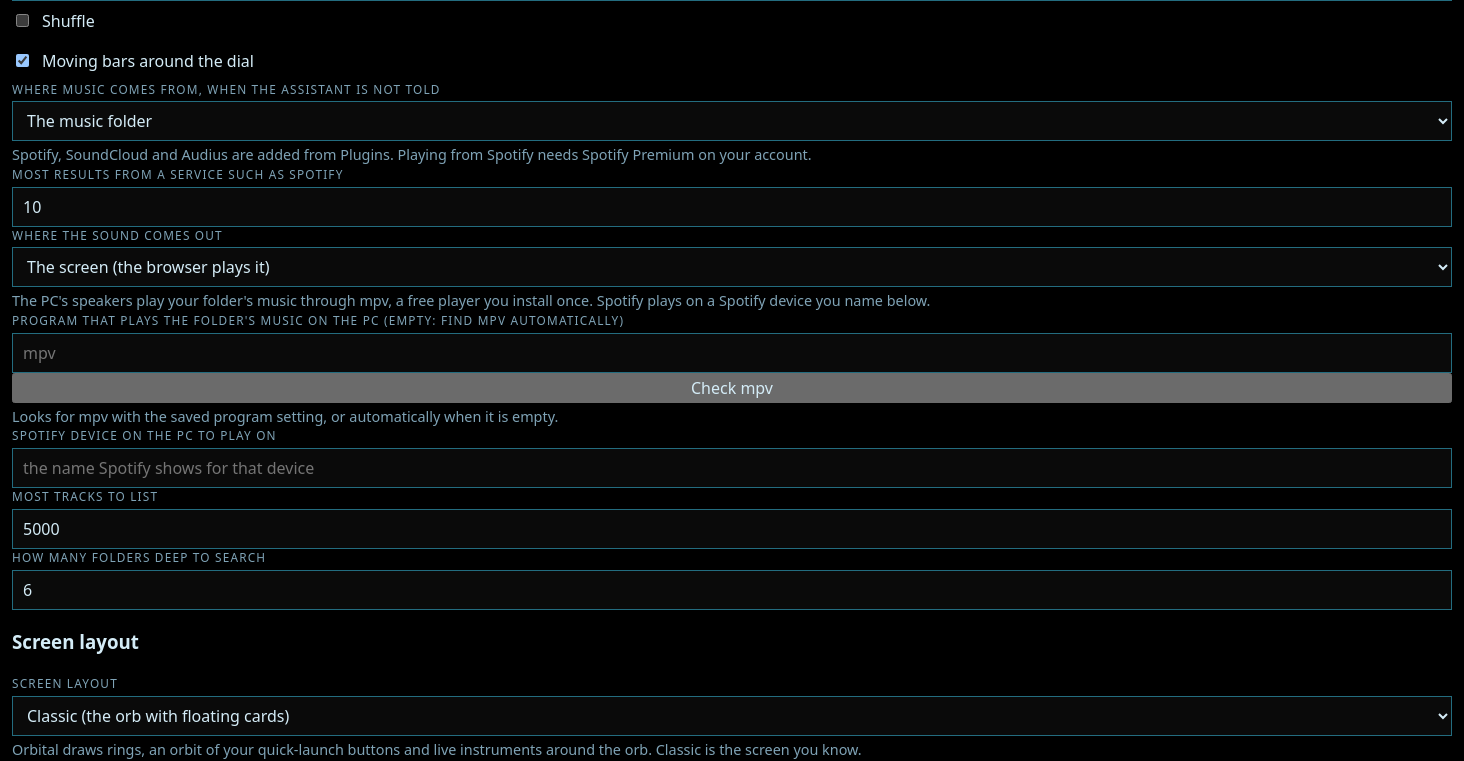
Test case: checking mpv › shows the version it found
(page scrolled)
Click the button "Check mpv".
click(732, 388)  # box x1=12 y1=373 x2=1452 y2=403
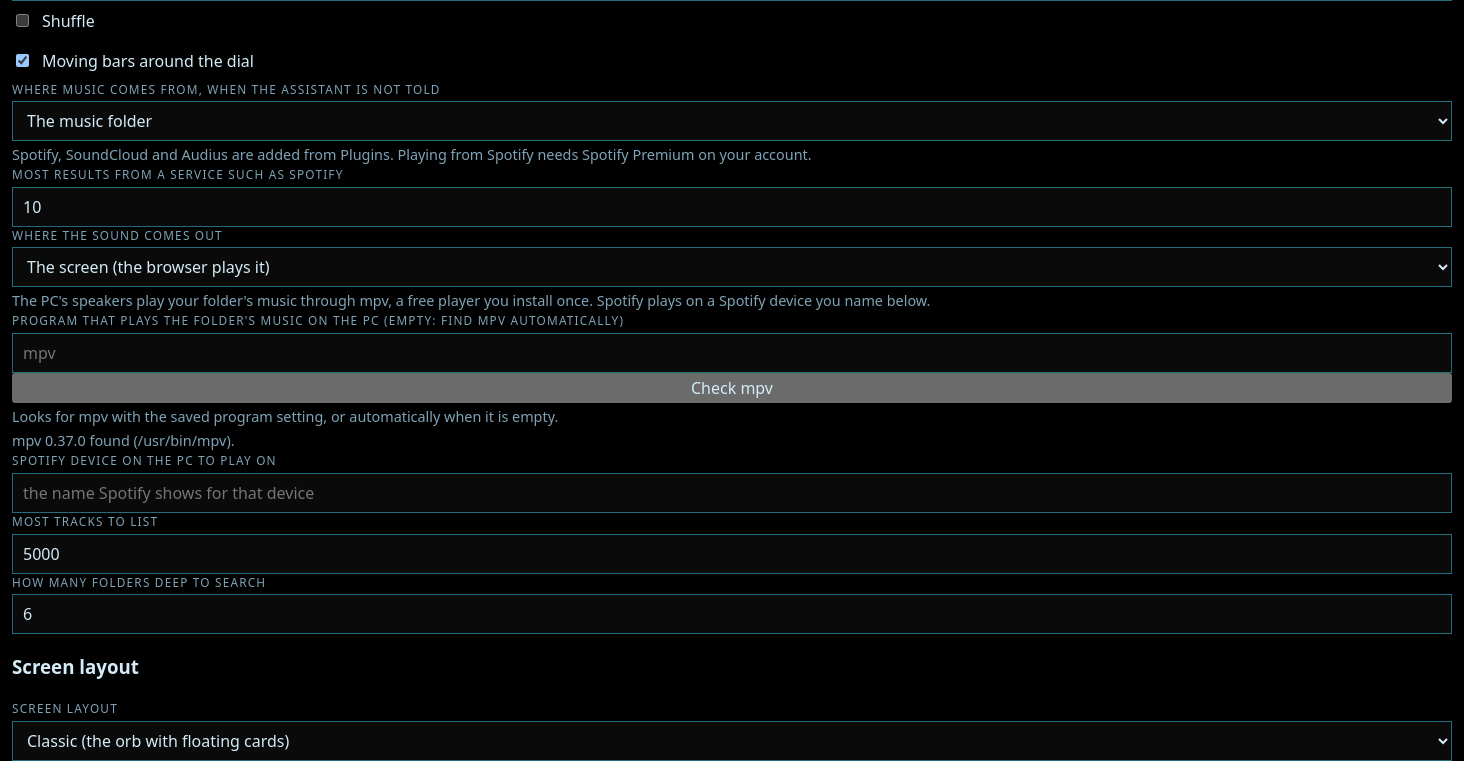
Expected: the message shows "mpv 0.37.0 found", x1=12 y1=431 x2=235 y2=450
